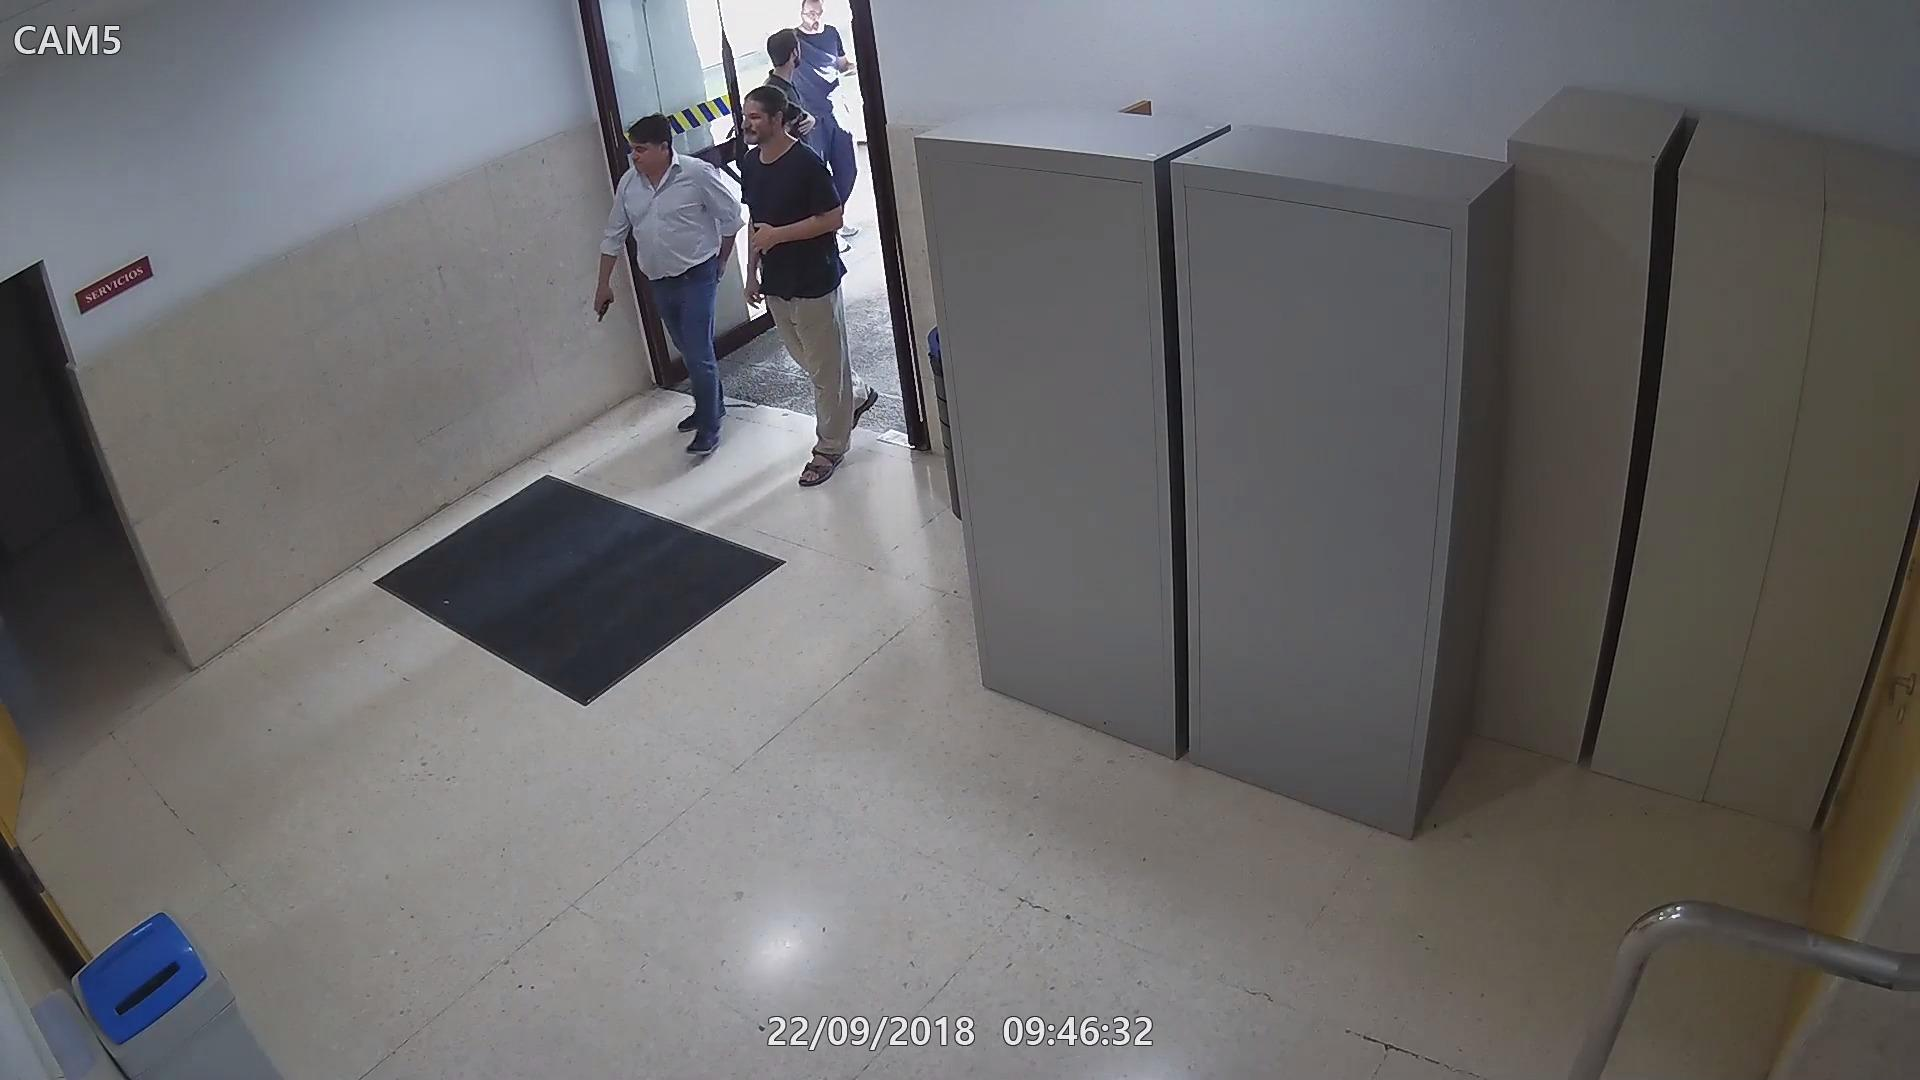Handgun: (589, 286, 616, 326)
